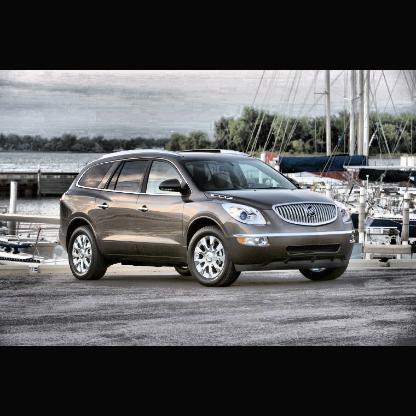Buick Enclave SUV 2012: (58, 149, 358, 290)
